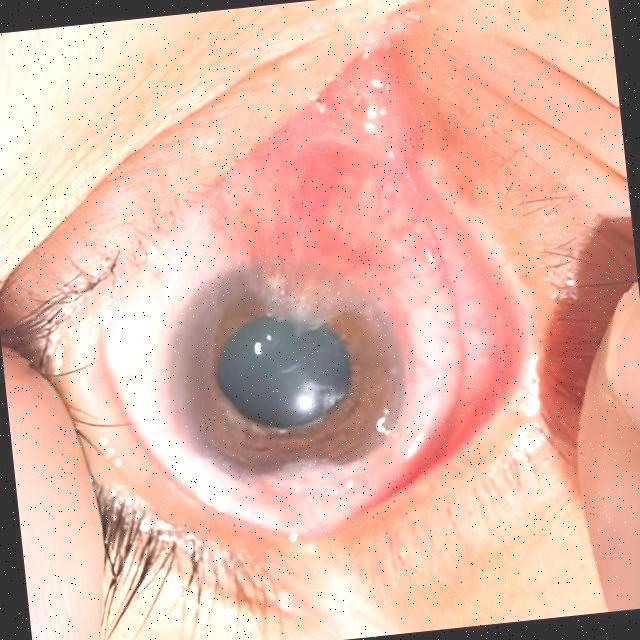Pterygium: (200, 81, 438, 358), (229, 434, 378, 564)
